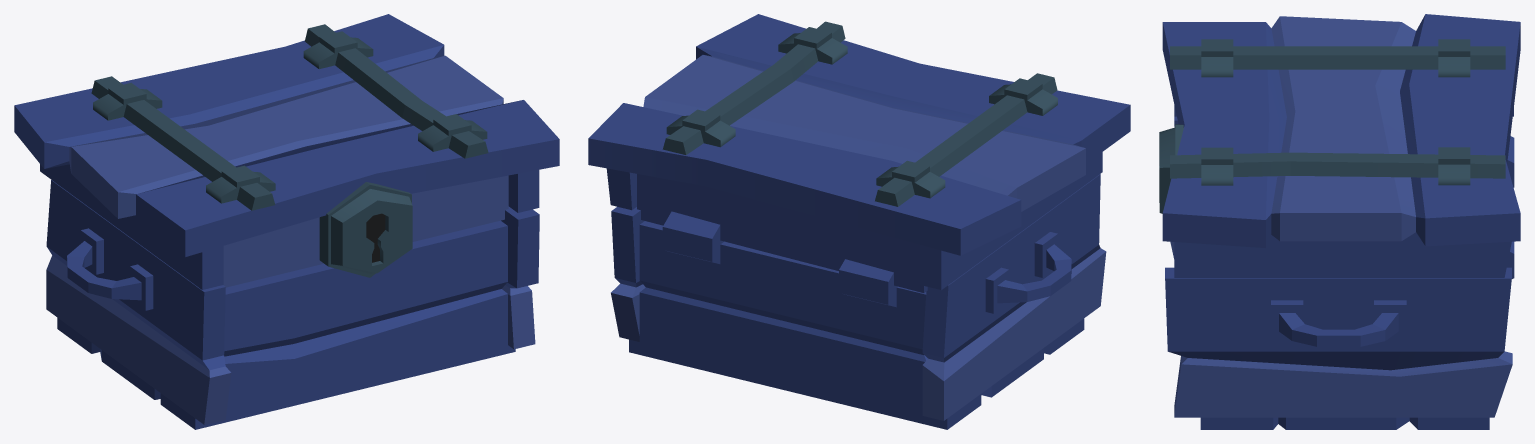
Rendered from SM_Prop_Chest_Wood_01.fbx.
The picture shows the model from 3 angles, left to right: view 1: azimuth 30°, elevation 25°; view 2: azimuth 150°, elevation 25°; view 3: azimuth 270°, elevation 25°; orthographic projection. The views are drawn at different scales.
Parts seen in each view (by area): view 1: SM_Prop_Chest_Wood_Lid, SM_Prop_Chest_Wood_01; view 2: SM_Prop_Chest_Wood_Lid, SM_Prop_Chest_Wood_01; view 3: SM_Prop_Chest_Wood_Lid, SM_Prop_Chest_Wood_01.
Part boxes in pixels (x1=…): SM_Prop_Chest_Wood_Lid: x1=14, y1=14, x2=559, y2=289; SM_Prop_Chest_Wood_01: x1=46, y1=180, x2=539, y2=429; SM_Prop_Chest_Wood_Lid: x1=588, y1=14, x2=1130, y2=292; SM_Prop_Chest_Wood_01: x1=611, y1=174, x2=1106, y2=429; SM_Prop_Chest_Wood_Lid: x1=1159, y1=14, x2=1520, y2=277; SM_Prop_Chest_Wood_01: x1=1165, y1=116, x2=1514, y2=429.
Bounding box in the file's own units: 76.93 × 41.67 × 54.95.
